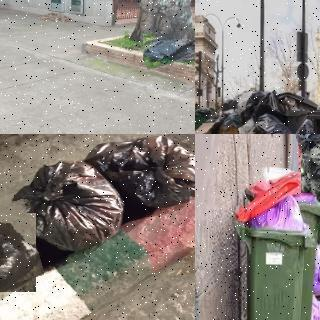Garbage: (13, 162, 125, 251), (87, 137, 195, 207), (0, 205, 40, 299), (141, 29, 195, 66), (295, 134, 320, 195), (252, 113, 291, 134)
